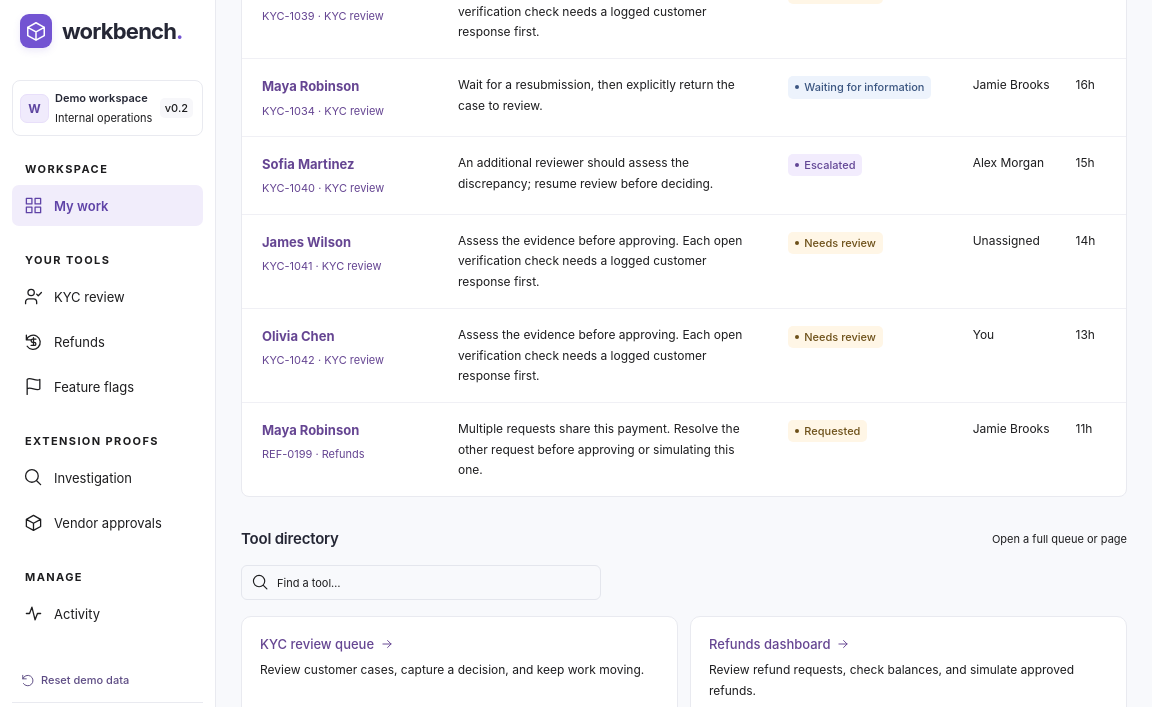
Scenario: task-first local workspace and references (jsdom) › returns an evidence-assessed local case to assigned work
(page scrolled)
Step 1. Click the link "Olivia Chen KYC-1042 · KYC review" → (298, 336), box [262, 328, 384, 367]
(page scrolled)
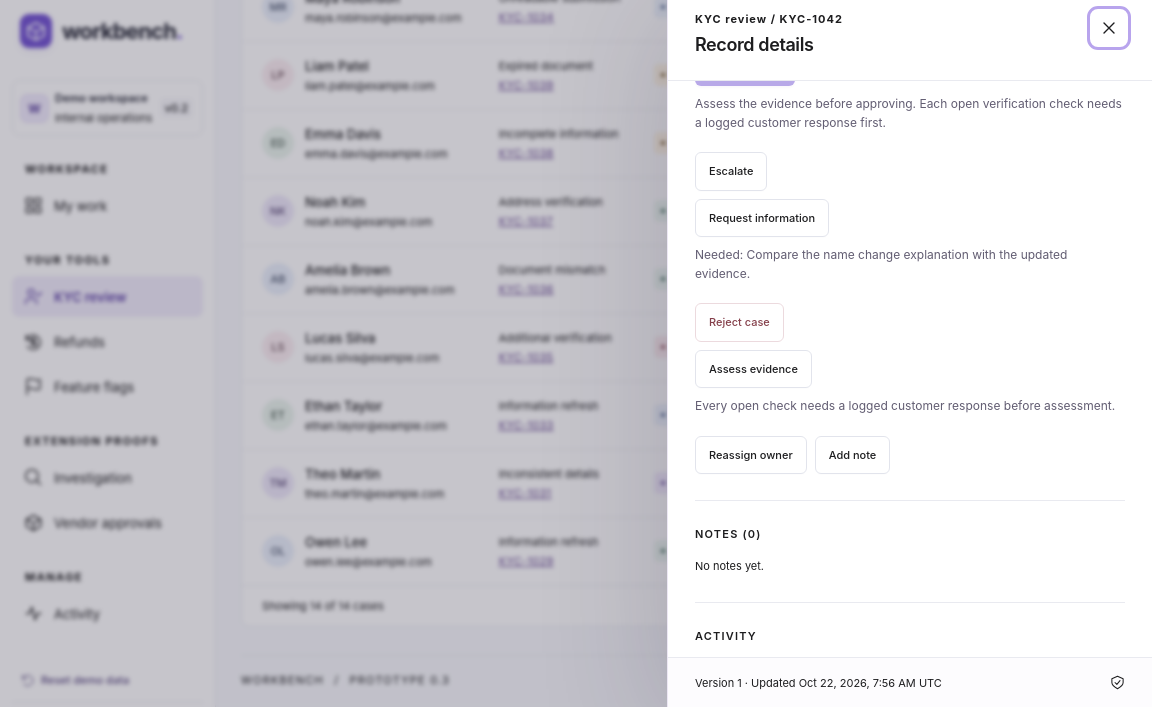
Step 2. Click the button "Assess evidence" → (753, 369), box [695, 350, 812, 388]
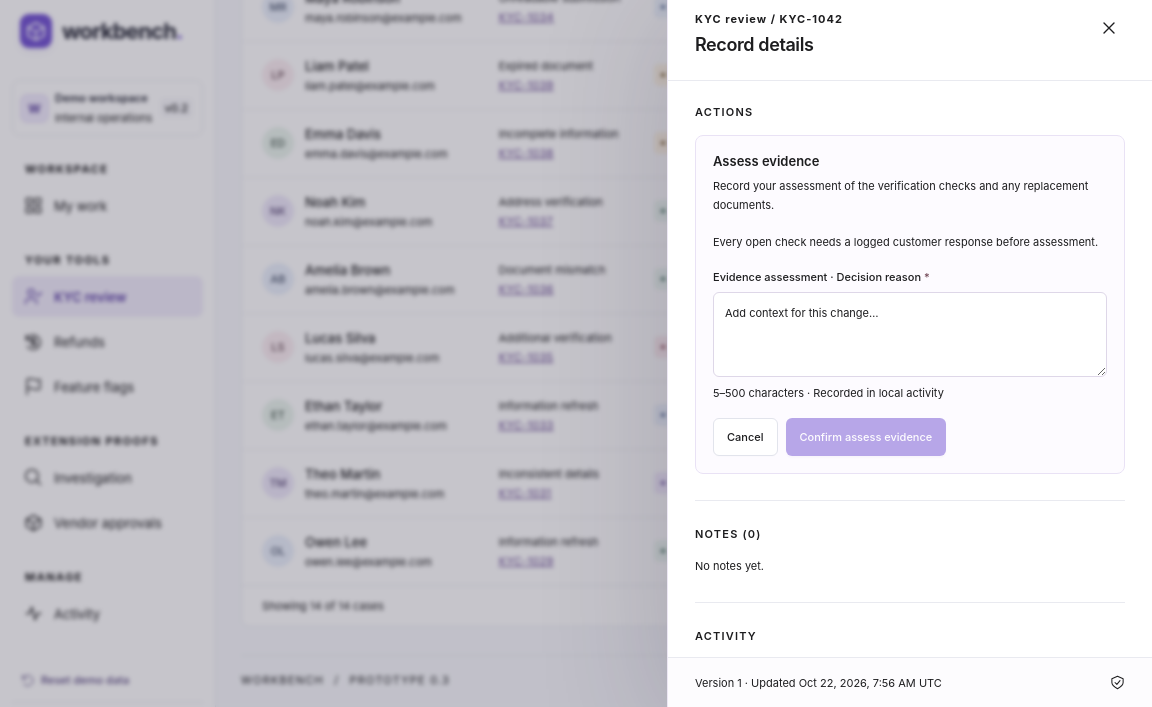
Step 3. Type "Assess the consistent fictional sample." into the text box → (910, 334), box [713, 292, 1107, 377]
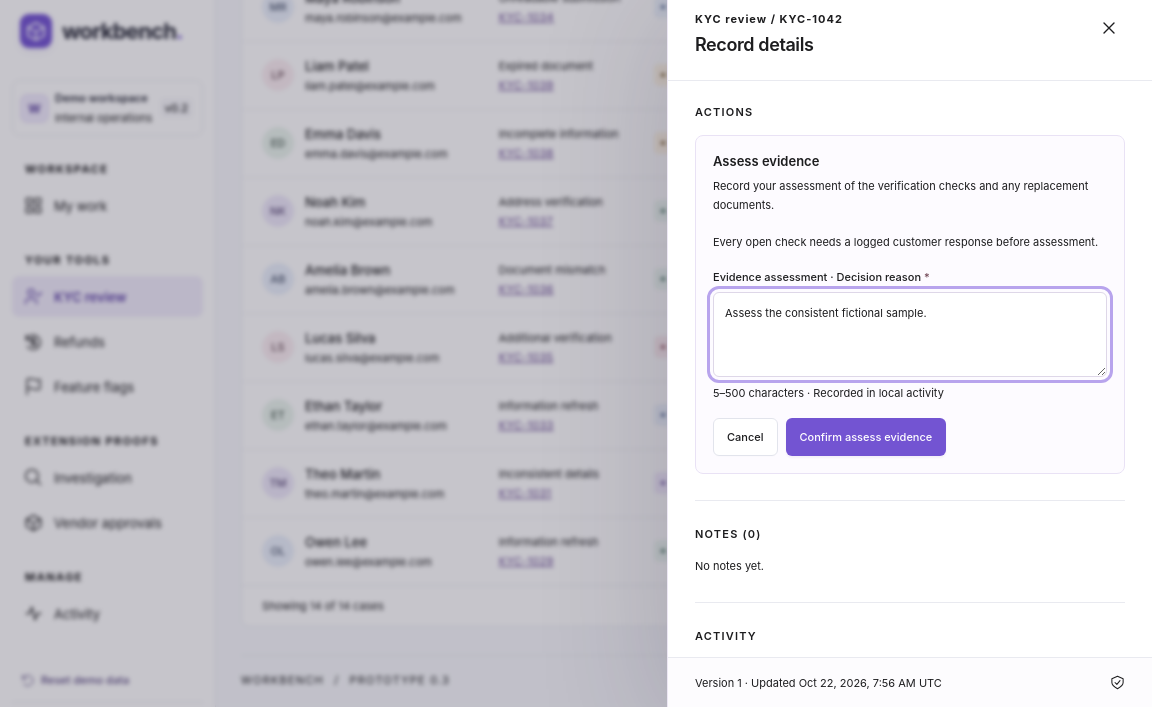
Step 4. Click the button "Confirm assess evidence" → (866, 437), box [786, 418, 946, 456]
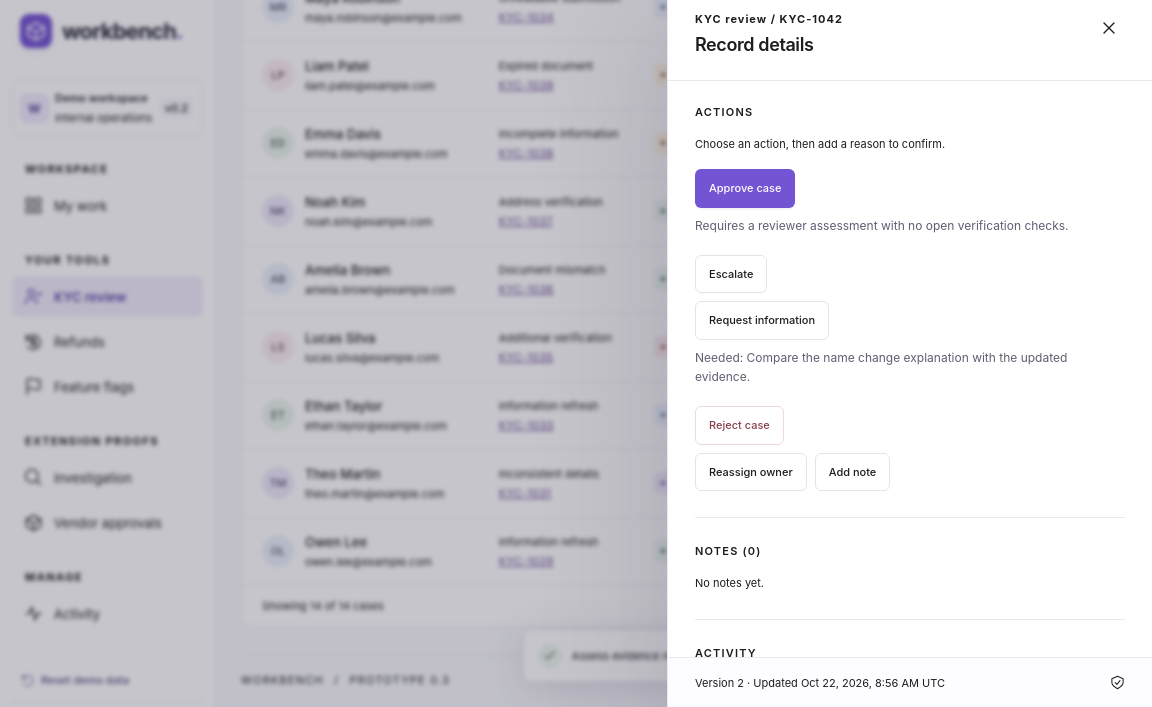
Expected: the button "Approve case" is enabled, [695, 169, 796, 208]
Step 5. Click the button named "Close dialog" → (1109, 28), box [1093, 12, 1125, 44]
(page scrolled)
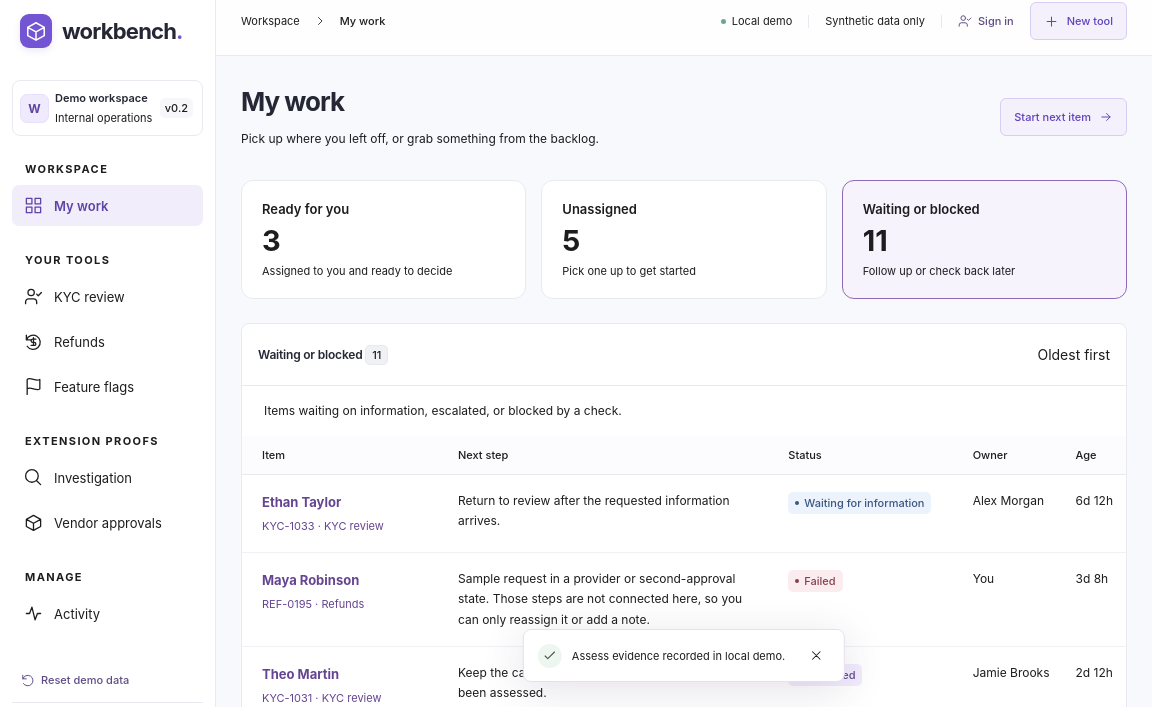
Expected: the heading "Waiting or blocked 11" is shown, [258, 347, 388, 362]
Step 6. Click the link "Ready for you 3 Assigned to you and ready to decide" → (306, 209), box [241, 180, 526, 299]
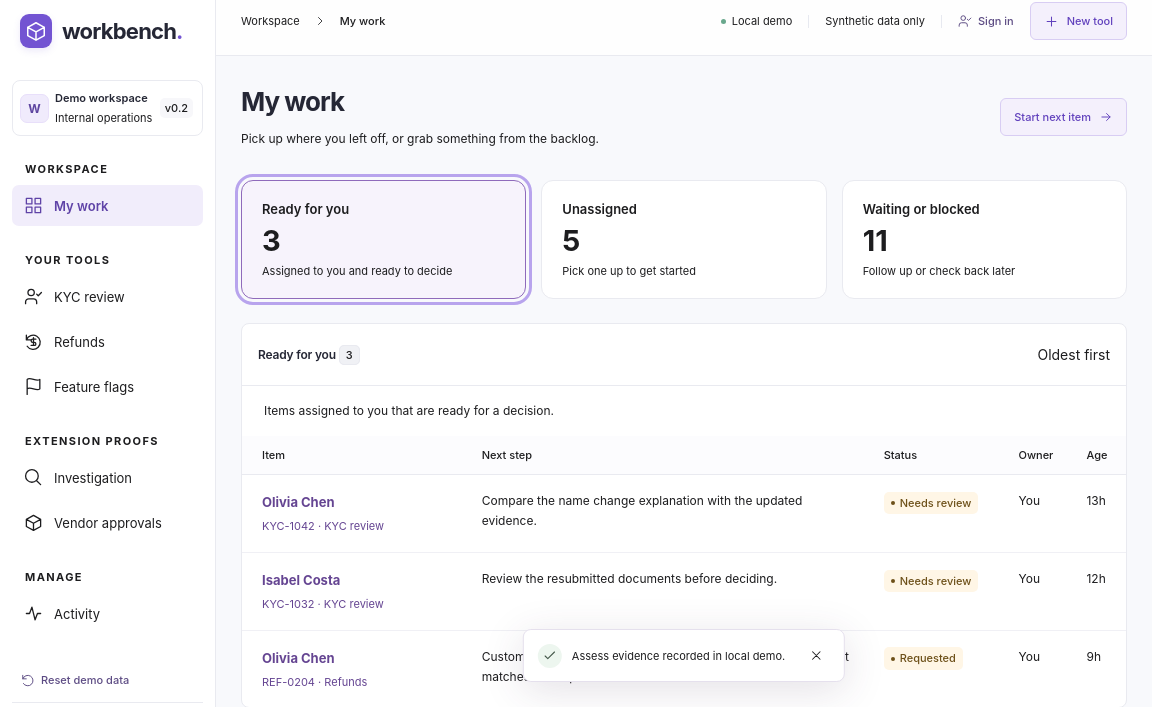
Expected: the link "Olivia Chen KYC-1042 · KYC review" is shown, [262, 494, 384, 533]
